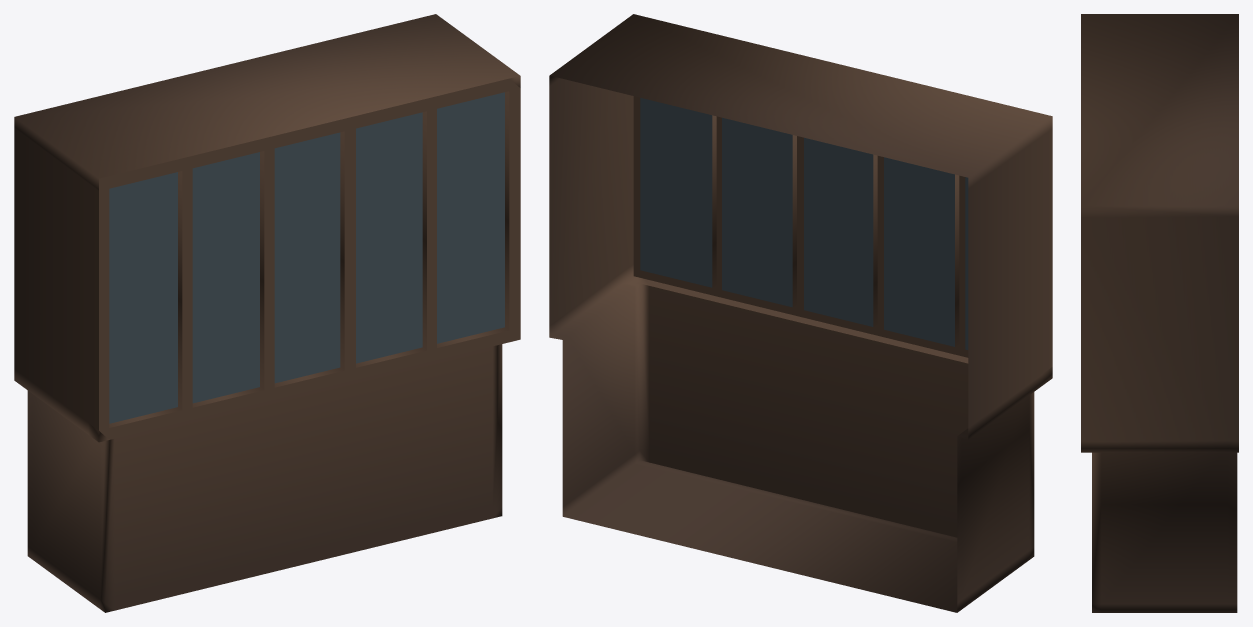
Rendered from OldZakritiy1.fbx.
3 renders of one model, left to right at view 1: azimuth 30°, elevation 25°; view 2: azimuth 150°, elevation 25°; view 3: azimuth 270°, elevation 25°, orthographic. The views are drawn at different scales.
Visible parts, largest first — view 1: Cube.002; view 2: Cube.002; view 3: Cube.002.
Boxes of the visible parts, <box> form: Cube.002: <box>14,14,520,612</box>; Cube.002: <box>549,14,1052,612</box>; Cube.002: <box>1081,14,1238,612</box>.
Bounding box in the file's own units: 7.25 × 2.52 × 7.25.
